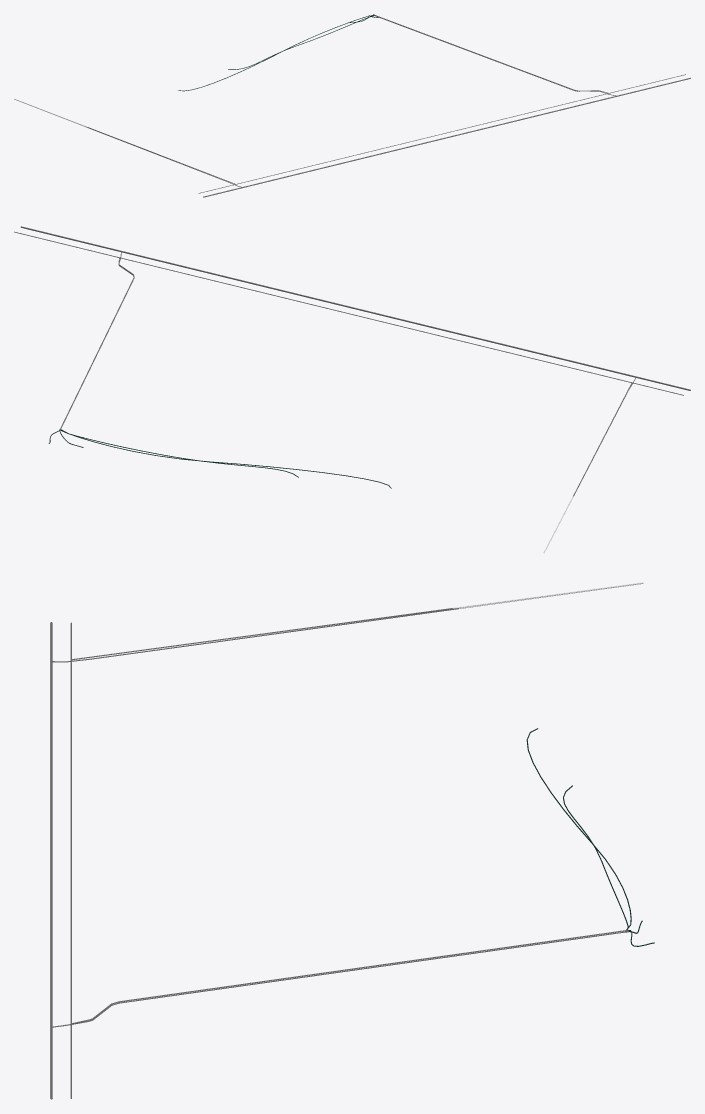
File: GullyPipes.fbx
3 views of the same model, one above another, from view 1: azimuth 30°, elevation 25°; view 2: azimuth 150°, elevation 25°; view 3: azimuth 270°, elevation 25° (orthographic). The views are drawn at different scales.
Size of the model in its own units: 8571 by 105 by 4241.
